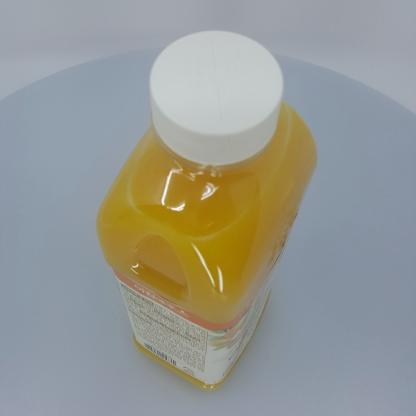----------950ML: (95, 30, 318, 393)
